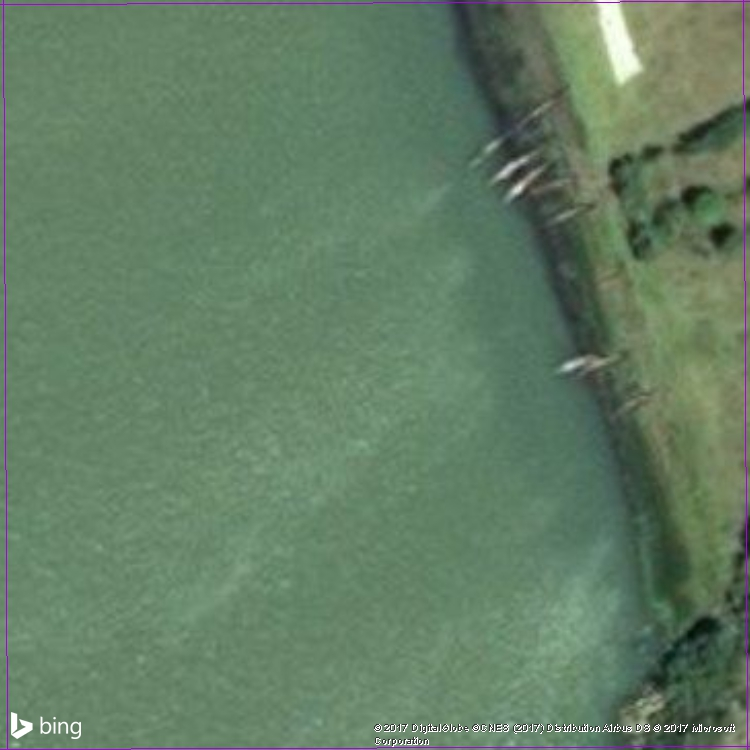boat: (462, 81, 572, 173), (481, 140, 552, 190), (499, 154, 561, 208), (532, 198, 605, 235), (568, 348, 634, 382), (547, 348, 604, 380), (519, 174, 581, 198)
